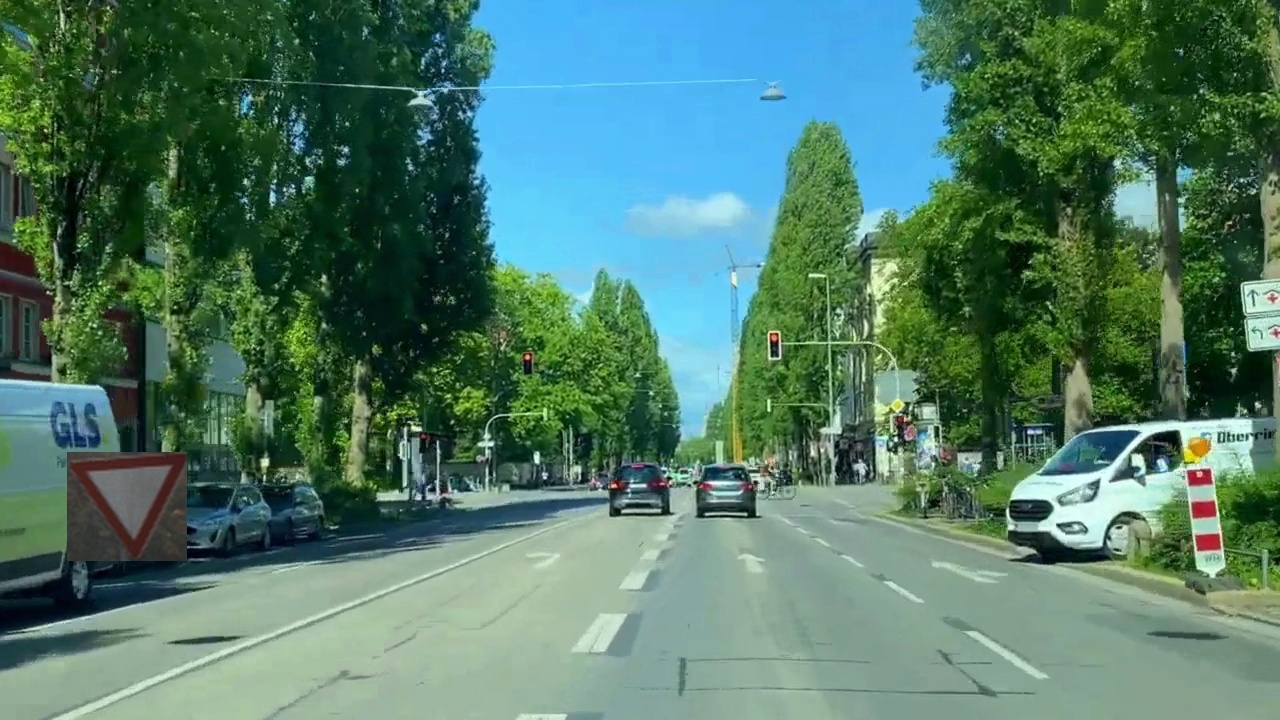Yield: (67, 452, 187, 561)
